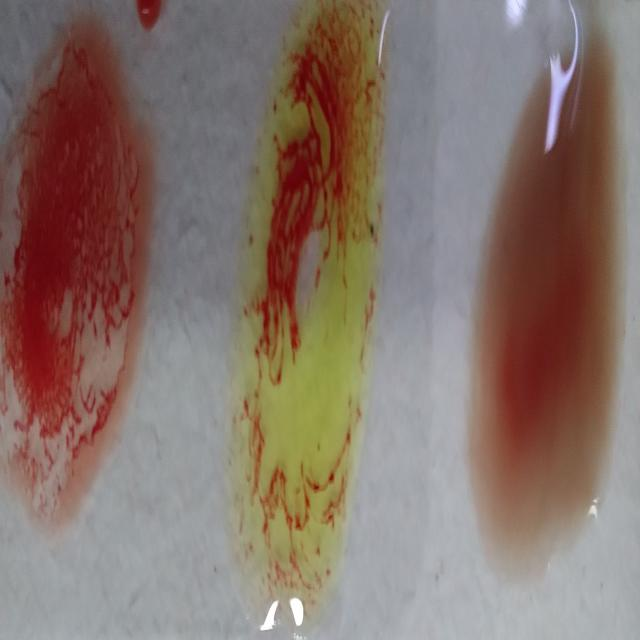B: (243, 11, 380, 592)
D: (1, 30, 134, 523)
